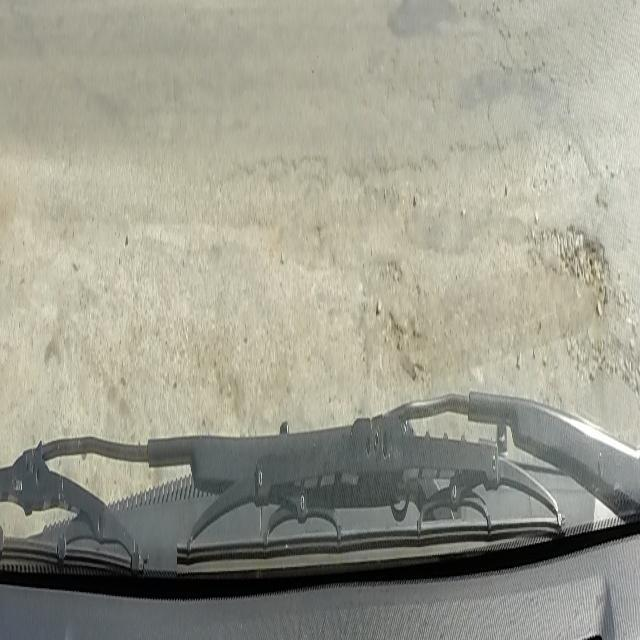pothole: (545, 220, 606, 326), (0, 234, 27, 338)
